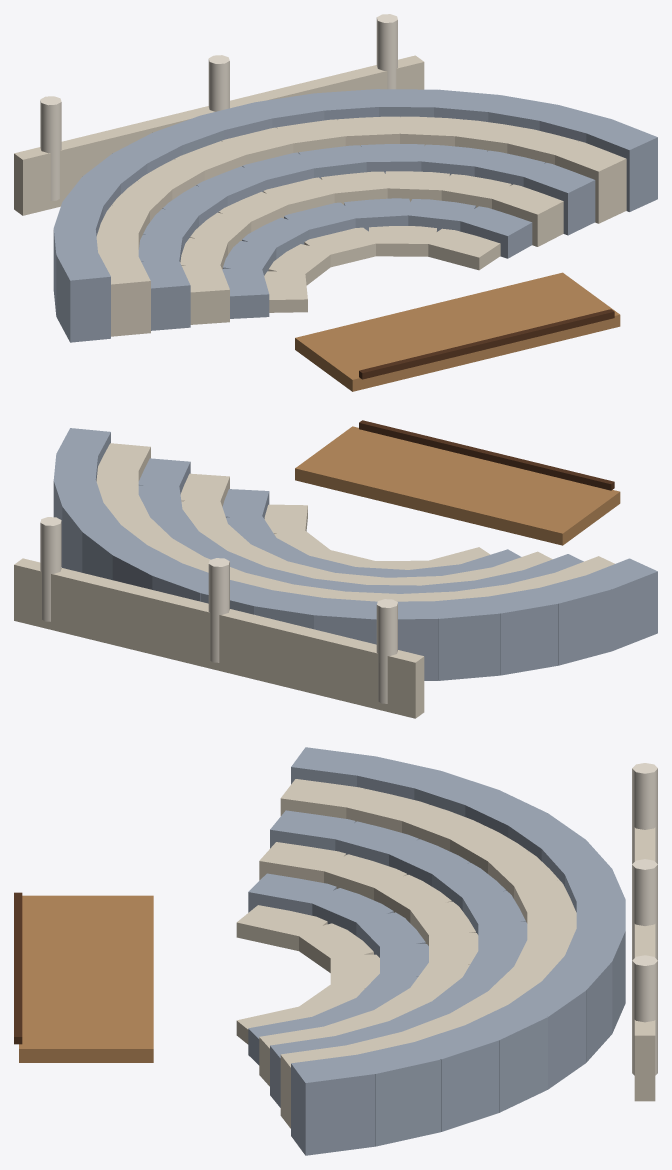
Rendered from bld_amphitheatre.glb.
3 renders of one model, top to bottom at view 1: azimuth 30°, elevation 25°; view 2: azimuth 150°, elevation 25°; view 3: azimuth 270°, elevation 25°, orthographic. The views are drawn at different scales.
Visible parts, largest first — view 1: bld_amphitheatre; view 2: bld_amphitheatre; view 3: bld_amphitheatre.
Boxes of the visible parts, box(x1,y1,x2,y2) form: bld_amphitheatre: box(14, 14, 657, 391); bld_amphitheatre: box(14, 420, 657, 718); bld_amphitheatre: box(14, 747, 657, 1155).
Bounding box in the file's own units: 15.37 × 2.63 × 12.45.
1 material, 1 textured.
